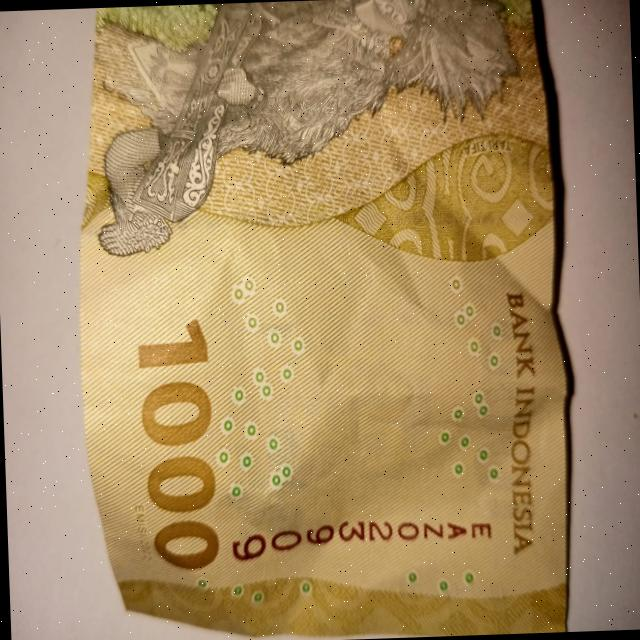1K: (68, 0, 583, 640)
